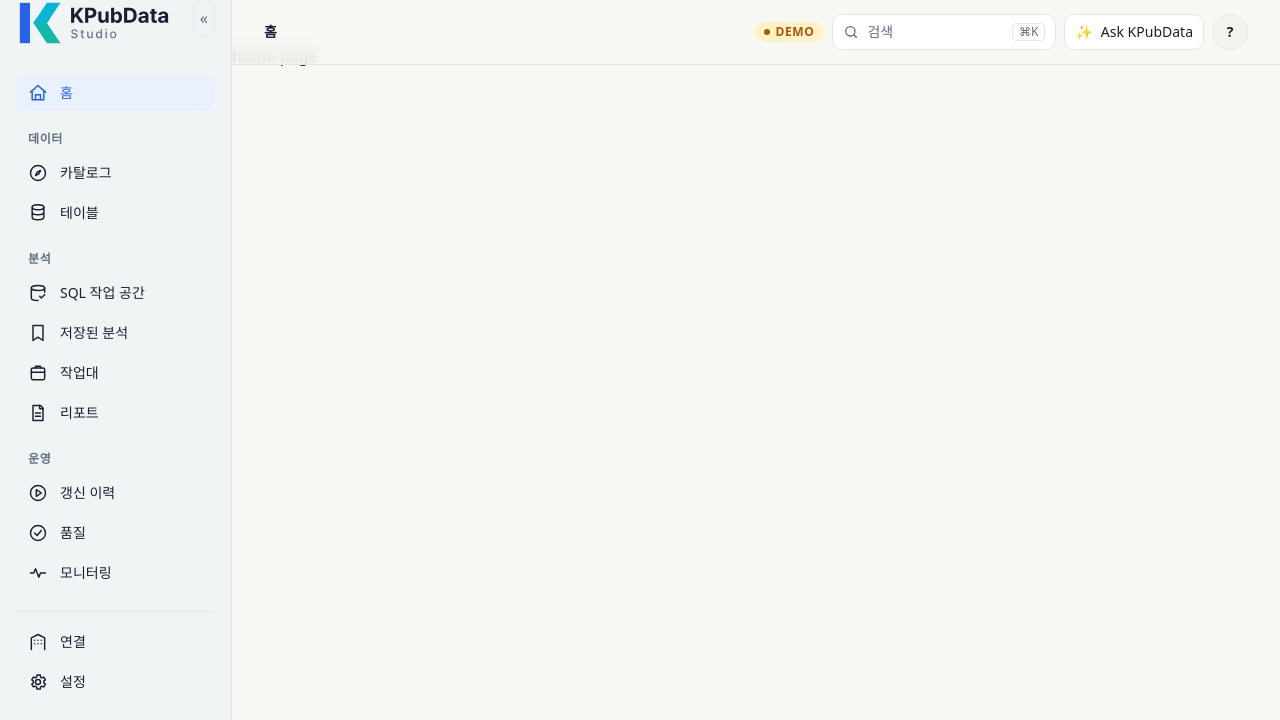
demo-mode indicator (#672) › stays in the top bar on every screen in mock mode
(page scrolled)
Click the link "연결" at (38, 642), box [28,632,86,652]
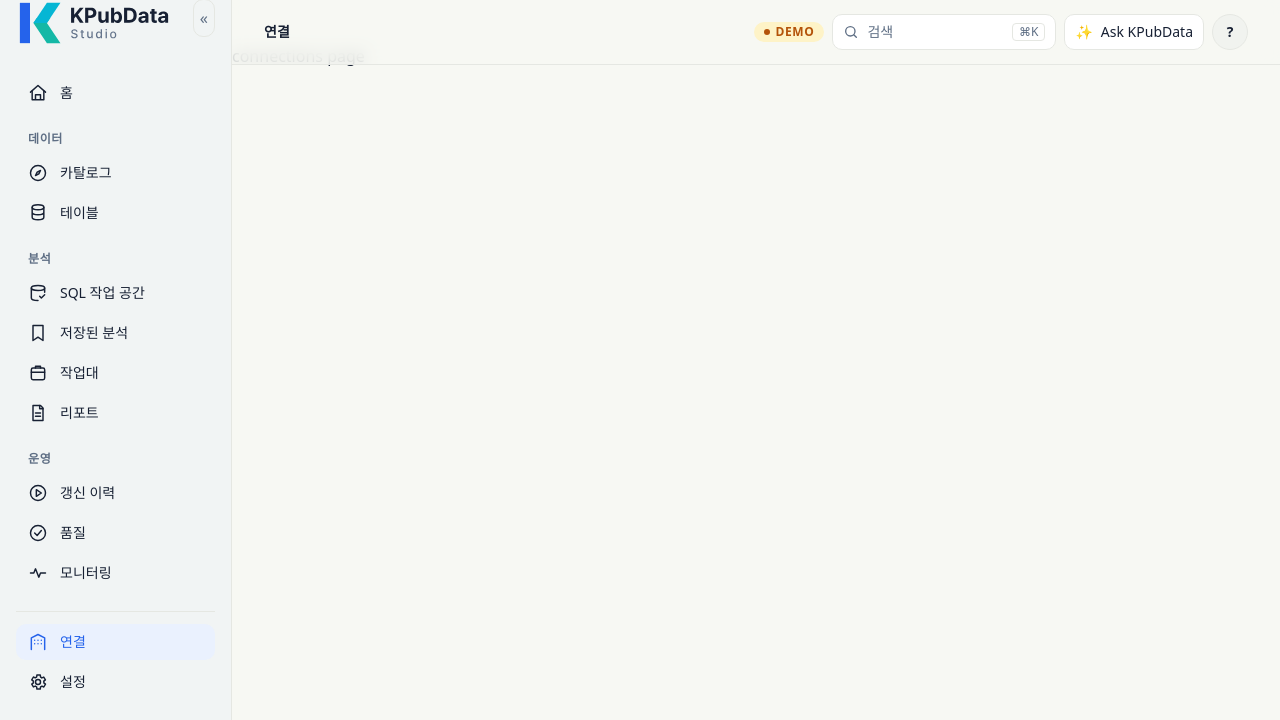
Expected: the element with test id "demo-indicator" reads "DEMO", [776,23,814,40]
Now the text "connections page" is shown, box [232,45,365,67]
Click the link "설정" at (38, 682), box [28,672,86,692]
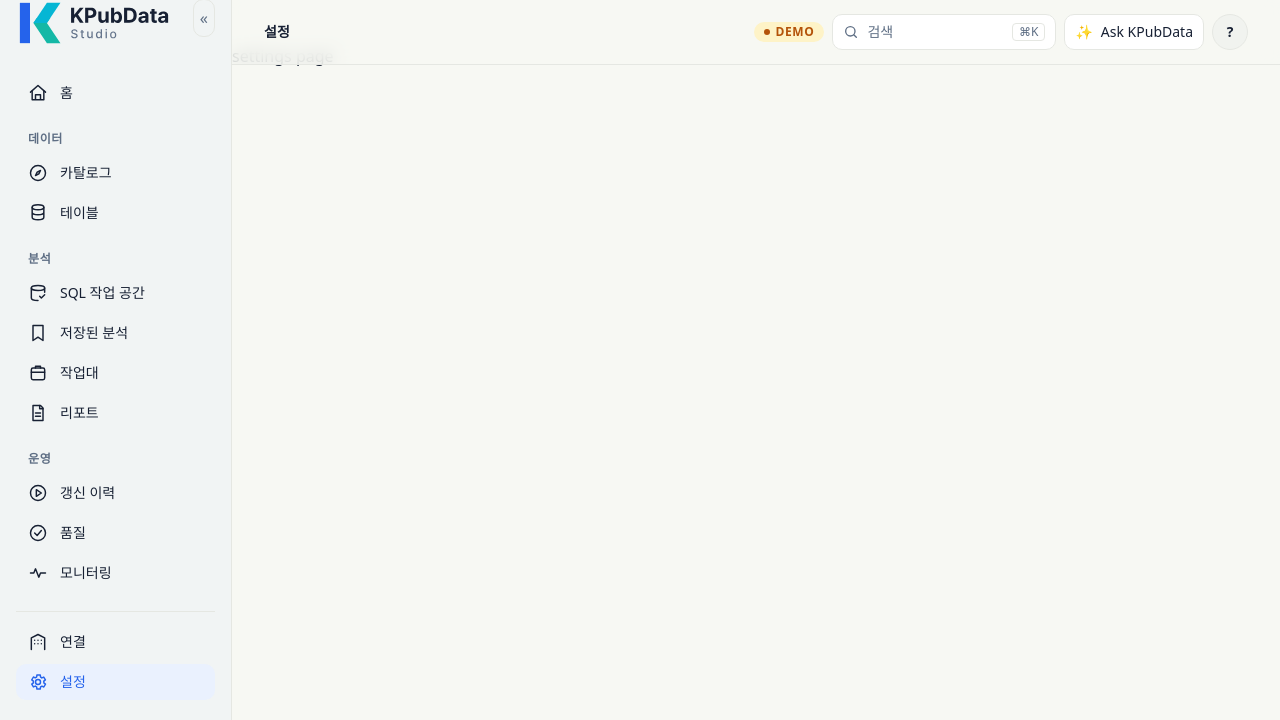
Expected: the element with test id "demo-indicator" reads "DEMO", [776,23,814,40]
Now the text "settings page" is shown, box [232,45,334,67]
